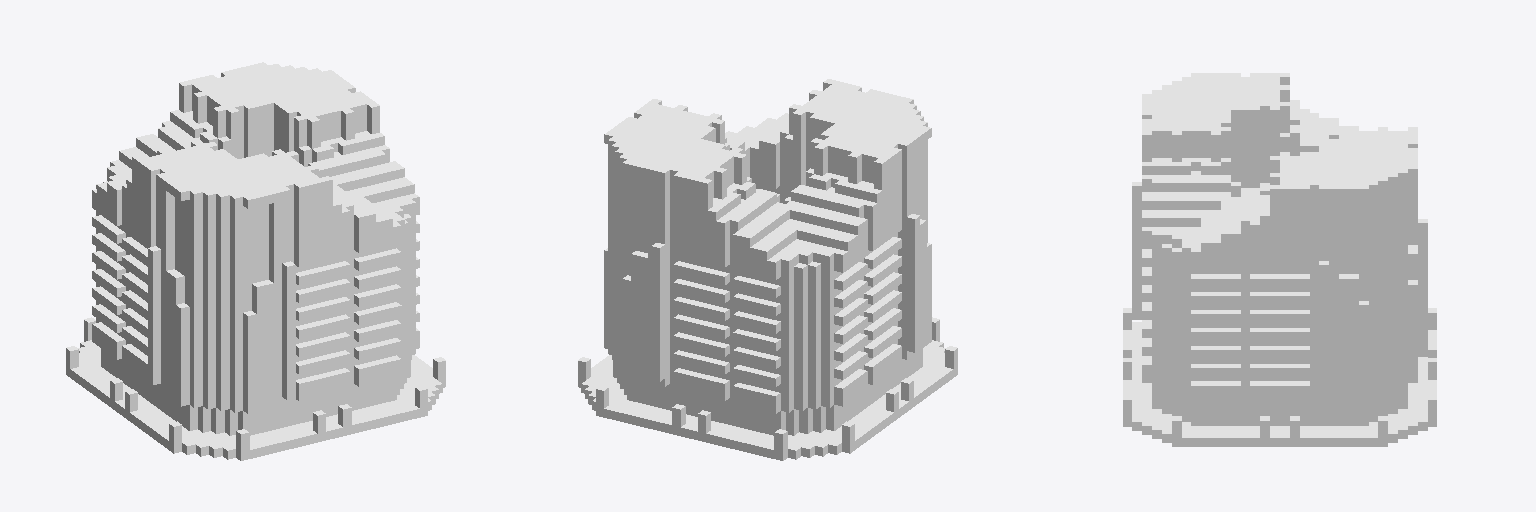
Rendered from cityHall8.obj.
3 views of the same model, side by side, from view 1: azimuth 30°, elevation 25°; view 2: azimuth 150°, elevation 25°; view 3: azimuth 270°, elevation 25° (orthographic).
Visible parts, largest first — view 1: cityHall8.001; view 2: cityHall8.001; view 3: cityHall8.001.
Boxes of the visible parts, x1,y1,x2,y2 form: cityHall8.001: [66, 62, 445, 460]; cityHall8.001: [578, 79, 957, 460]; cityHall8.001: [1123, 73, 1436, 446].
Size of the model in its own units: 3.2 by 2.8 by 3.2.